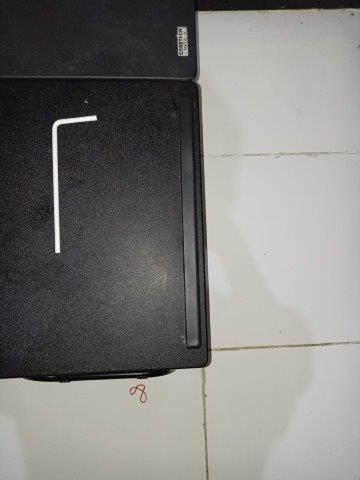karet: (129, 384, 148, 402)
sedotan: (51, 115, 97, 255)
